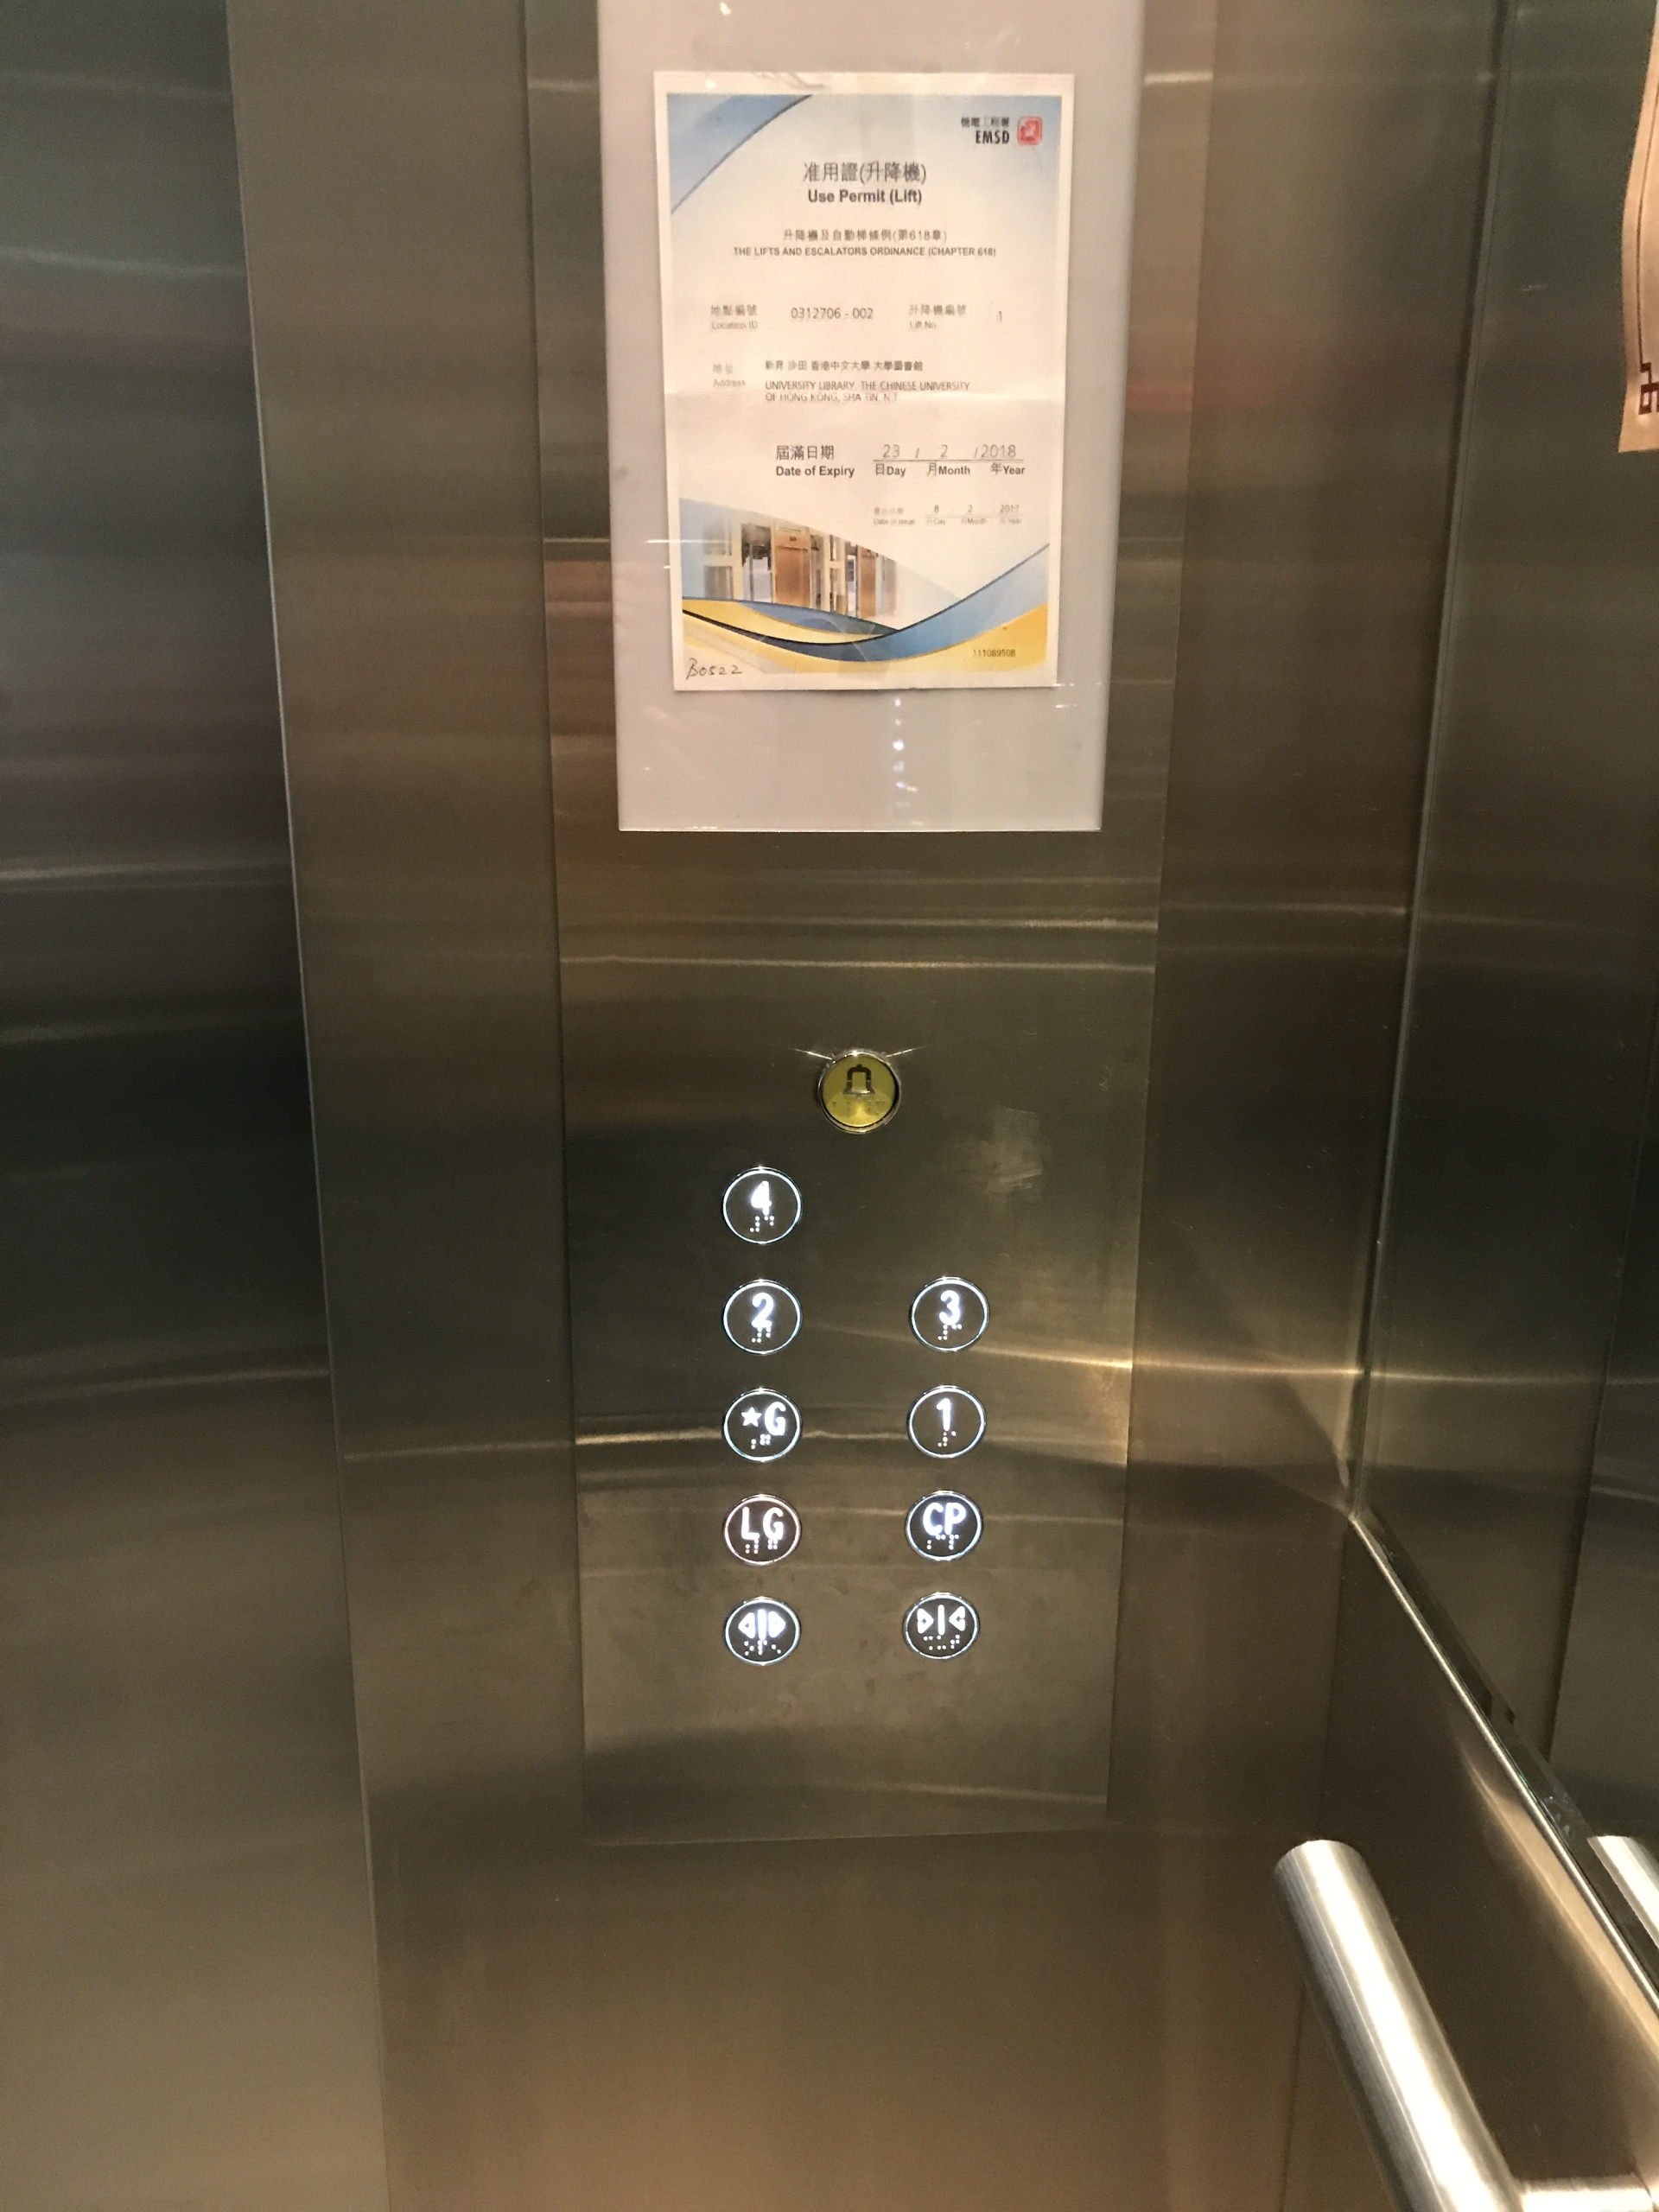1: (903, 1379, 988, 1463)
2: (718, 1273, 803, 1359)
3: (904, 1270, 992, 1357)
4: (718, 1160, 803, 1249)
CP: (901, 1484, 985, 1566)
LG: (720, 1486, 805, 1571)
alarm: (814, 1042, 906, 1139)
close: (897, 1585, 981, 1665)
open: (720, 1590, 803, 1670)
sG: (718, 1381, 803, 1467)
